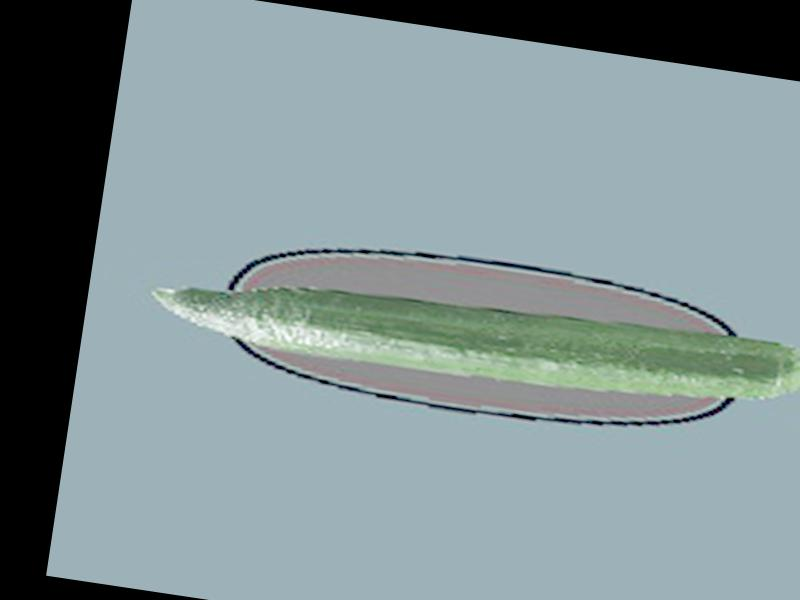Cucumber: (146, 247, 800, 427)
